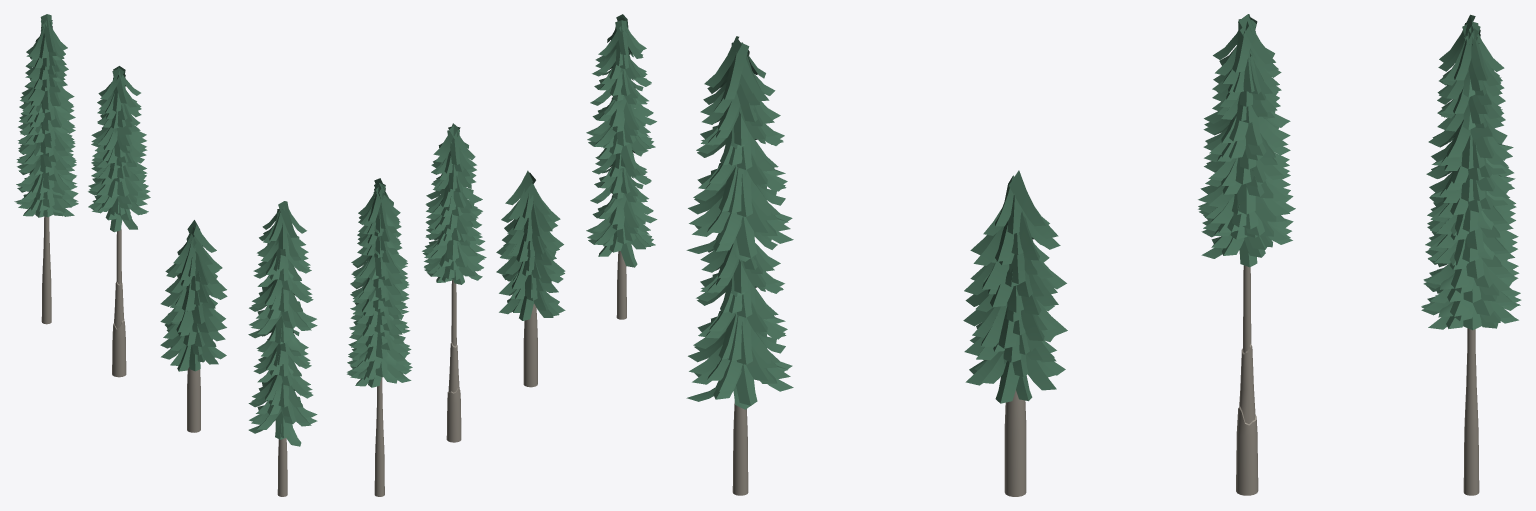
Rendered from Black Pine.fbx.
The picture shows the model from 3 angles, left to right: view 1: azimuth 30°, elevation 25°; view 2: azimuth 150°, elevation 25°; view 3: azimuth 270°, elevation 25°; orthographic projection. The views are drawn at different scales.
Visible parts, largest first — view 1: Black Pine 1 LOD 0, Black Pine 4 LOD 0, Black Pine 3 LOD 0, Black Pine 2 LOD 0; view 2: Black Pine 1 LOD 0, Black Pine 4 LOD 0, Black Pine 3 LOD 0, Black Pine 2 LOD 0; view 3: Black Pine 1 LOD 0, Black Pine 4 LOD 0, Black Pine 3 LOD 0, Black Pine 2 LOD 0.
Boxes of the visible parts, bbox=[...] form: Black Pine 1 LOD 0: bbox=[248, 201, 317, 496]; Black Pine 4 LOD 0: bbox=[14, 14, 78, 324]; Black Pine 3 LOD 0: bbox=[88, 66, 150, 377]; Black Pine 2 LOD 0: bbox=[160, 220, 227, 432]; Black Pine 1 LOD 0: bbox=[586, 14, 657, 319]; Black Pine 4 LOD 0: bbox=[347, 178, 412, 496]; Black Pine 3 LOD 0: bbox=[422, 123, 486, 442]; Black Pine 2 LOD 0: bbox=[496, 170, 565, 387]; Black Pine 1 LOD 0: bbox=[686, 36, 793, 495]; Black Pine 4 LOD 0: bbox=[1421, 14, 1521, 495]; Black Pine 3 LOD 0: bbox=[1198, 14, 1295, 495]; Black Pine 2 LOD 0: bbox=[963, 170, 1067, 496].
Size of what is drawn, in the model's own units: 1498 by 7299 by 11549.
